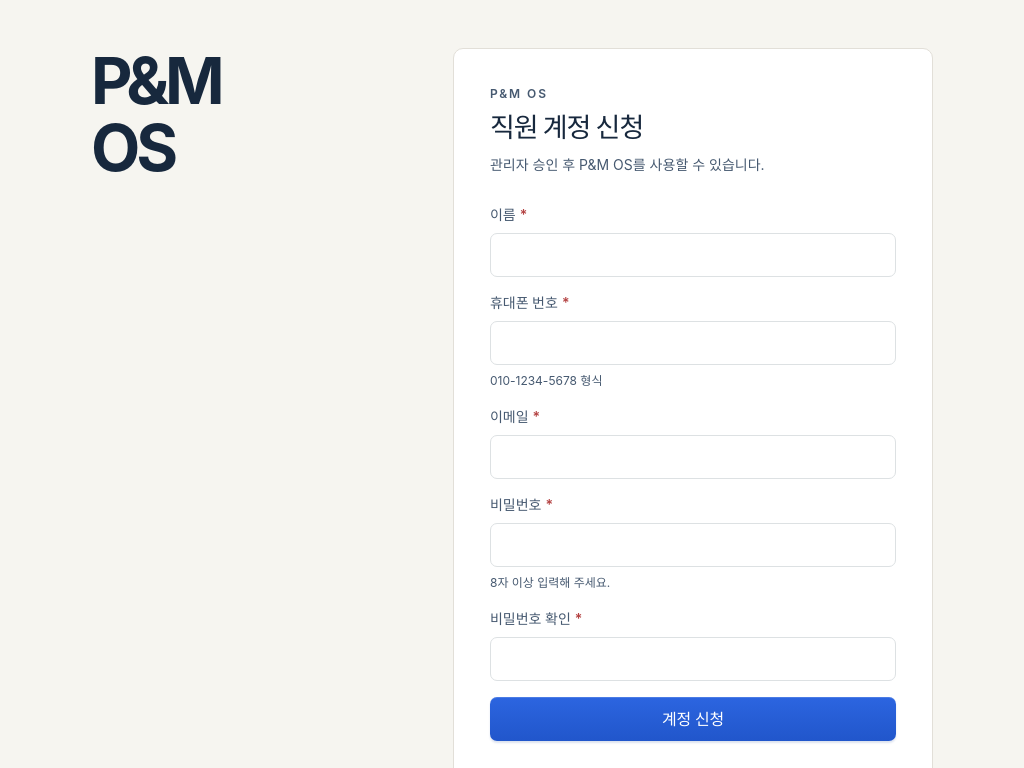
Signup error presentation preserves validation and focus › moves the same single error to the next invalid field and preserves its focus target
Type "합성 검수" into the field labelled "이름".
click(693, 255); type("합성 검수")  # box [490,233,896,277]
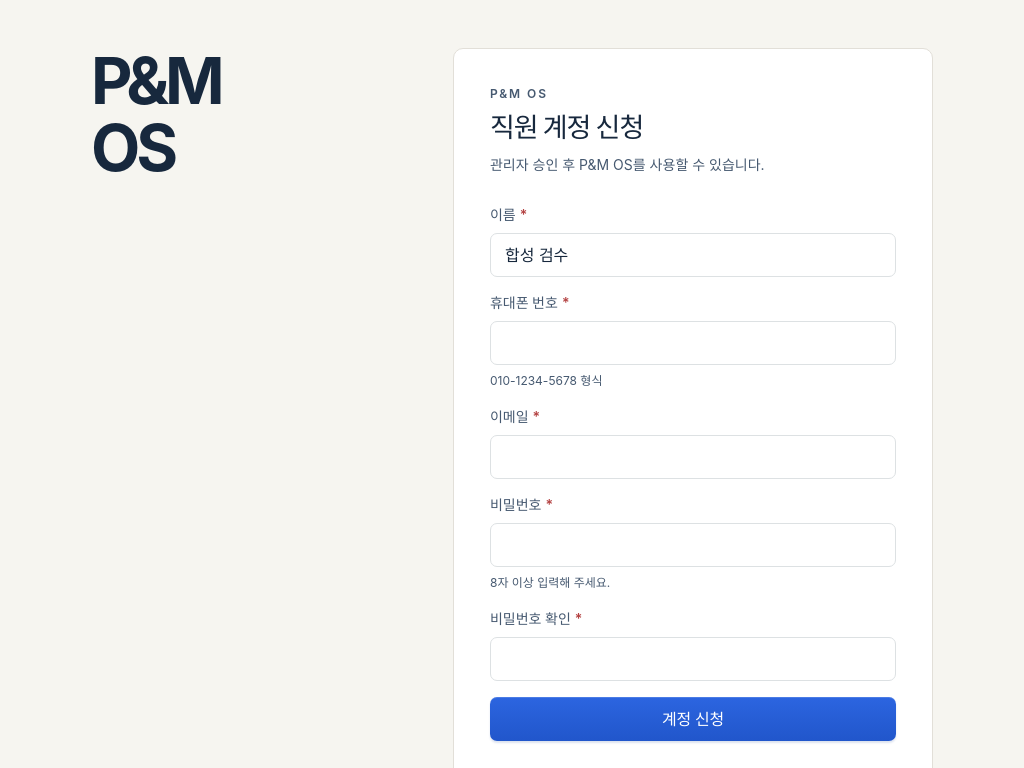
Click the button "계정 신청".
click(693, 719)  # box [490,697,896,741]
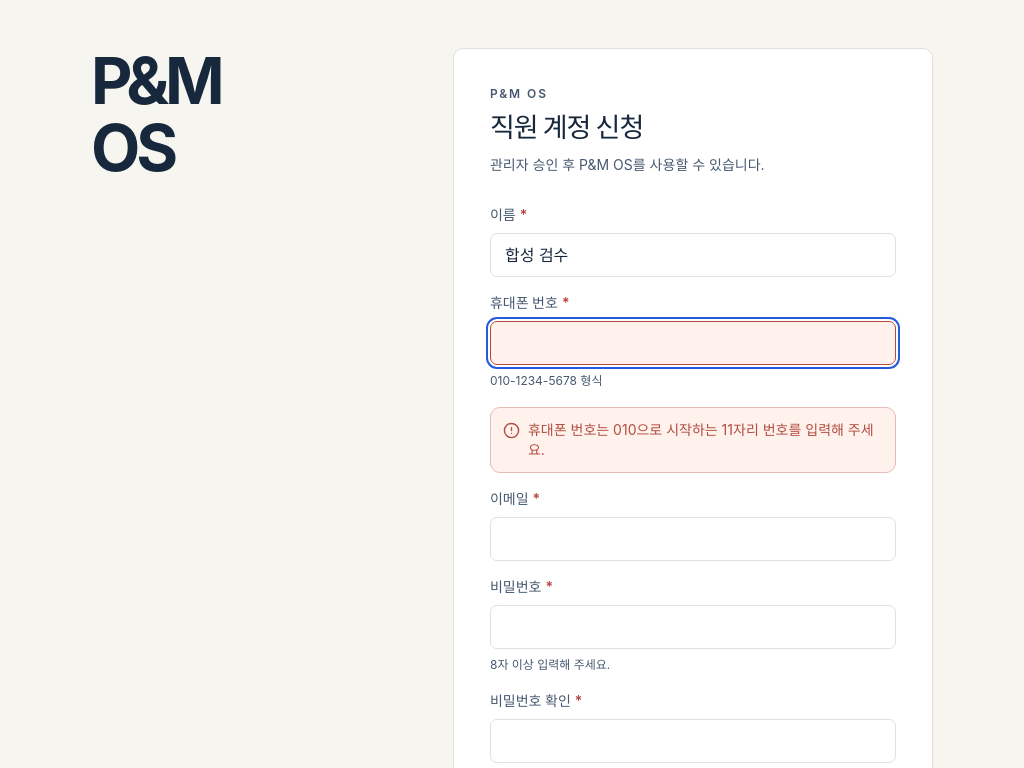
Check: the number of messages is 1, box [490,407,896,473]
